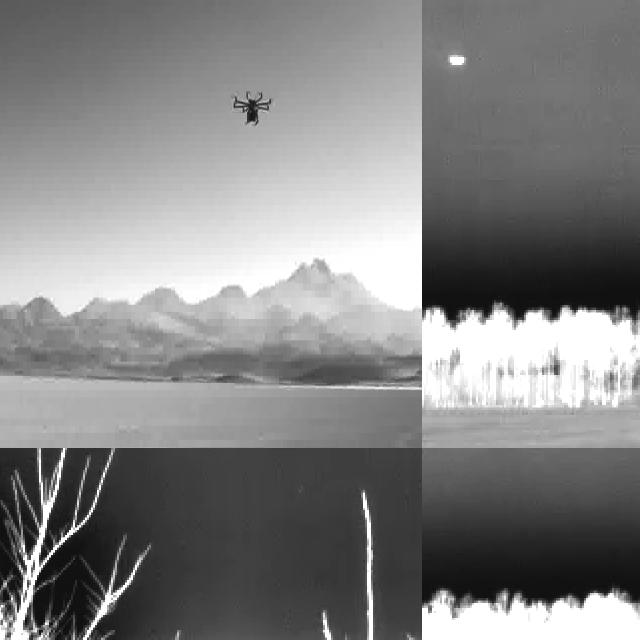0: (288, 476, 316, 509)
1: (440, 49, 476, 79)
drone: (228, 80, 274, 132)
